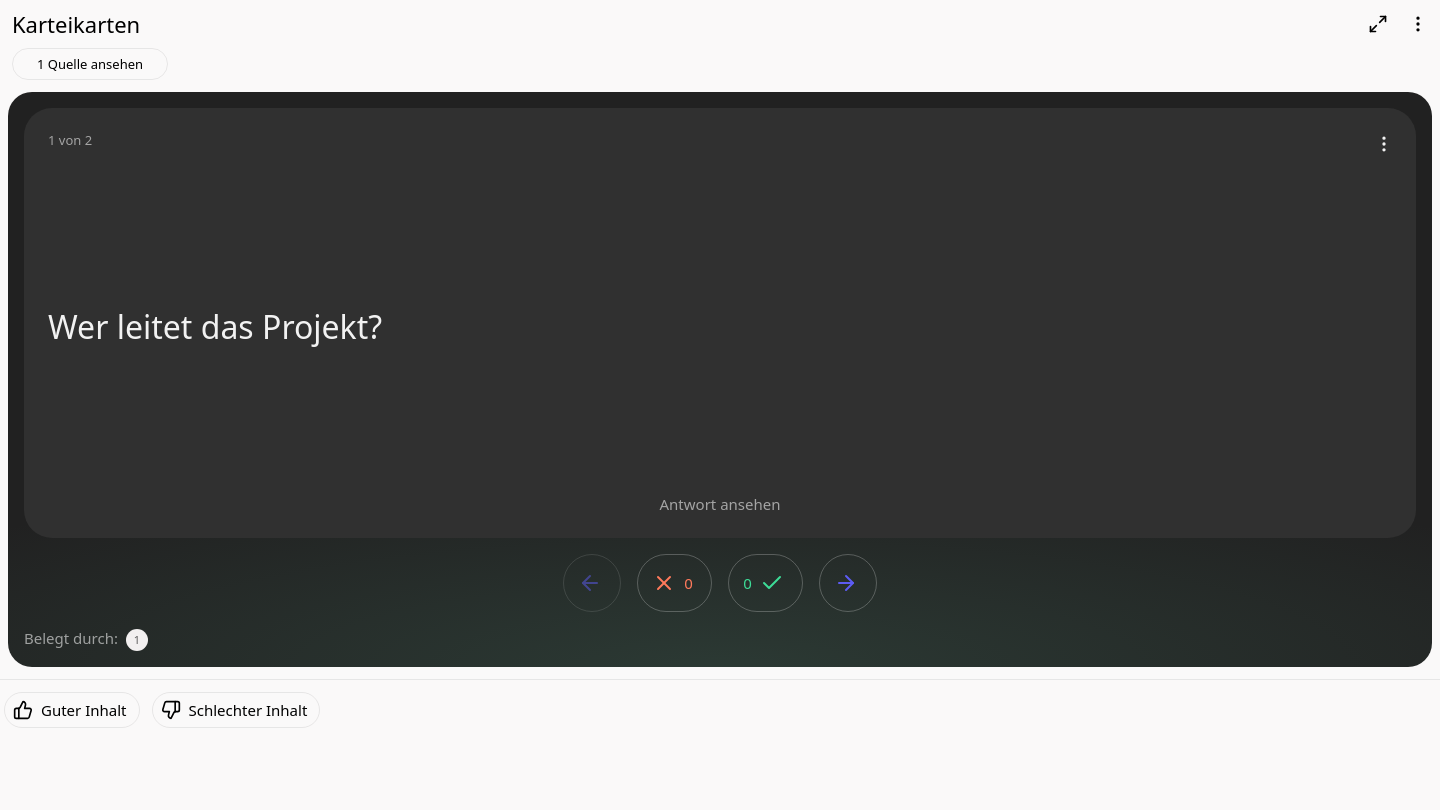
Test case: OutputViewer › names the sources behind the output
Click the button "1 Quelle ansehen" at (90, 64), box [12,48,168,80]
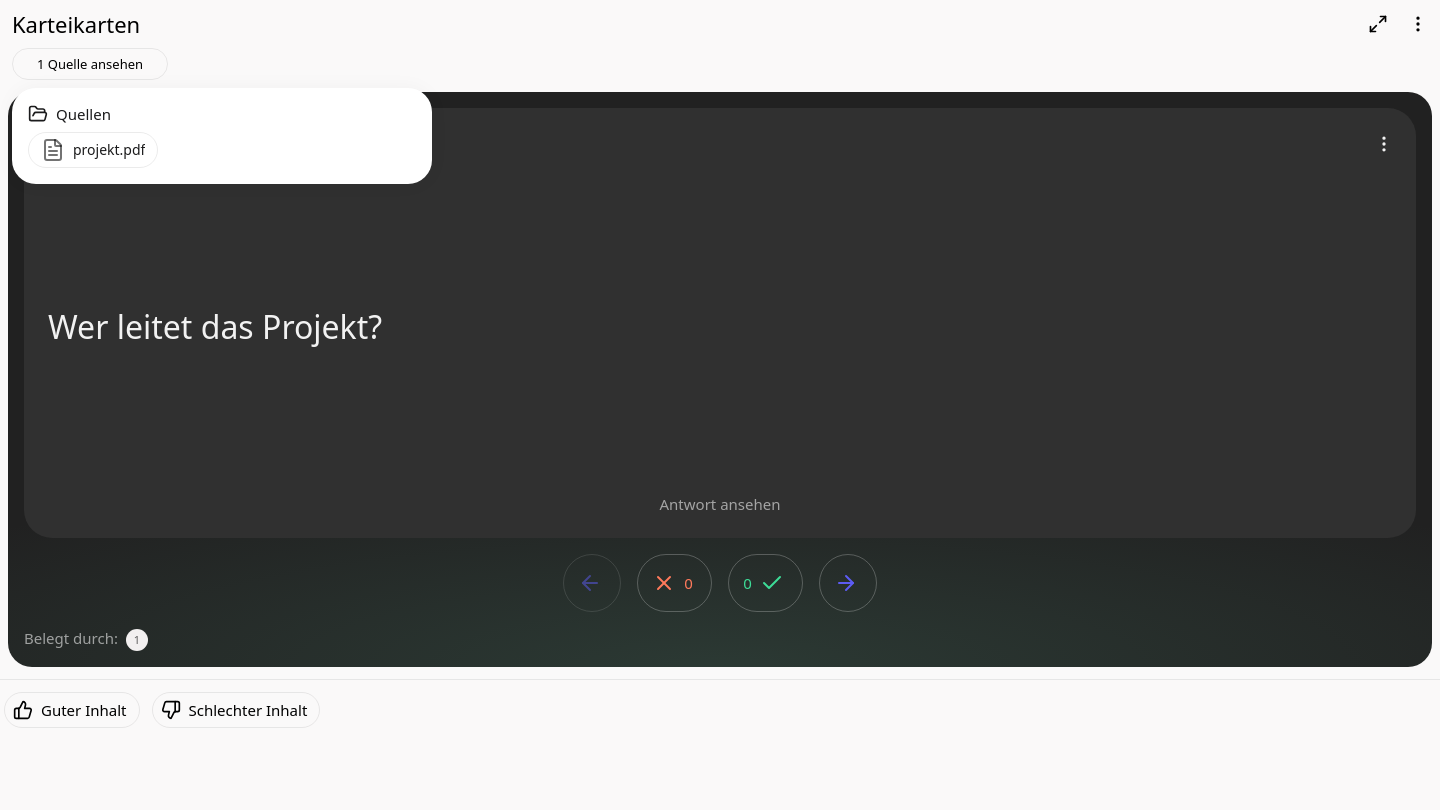
Expected: the text "projekt.pdf" is shown, [73,140,145,160]
